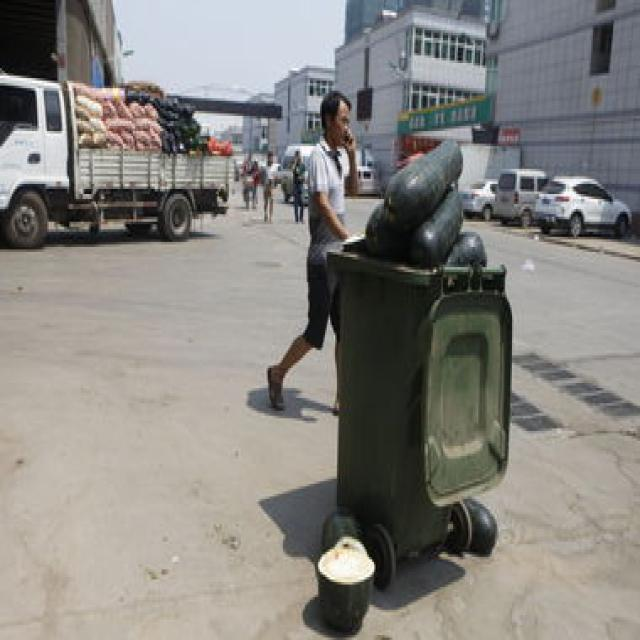overflow: (324, 136, 511, 587)
